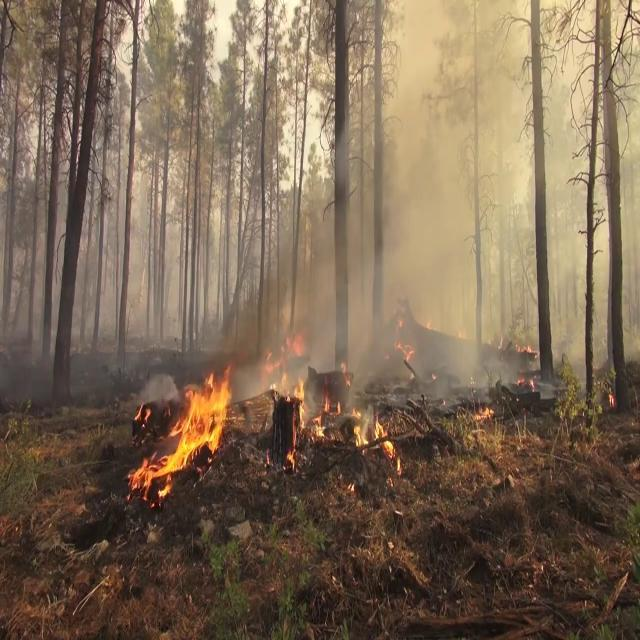Fire: (128, 360, 236, 504), (261, 322, 312, 462), (351, 404, 400, 464)
Smoke: (322, 3, 640, 393)
